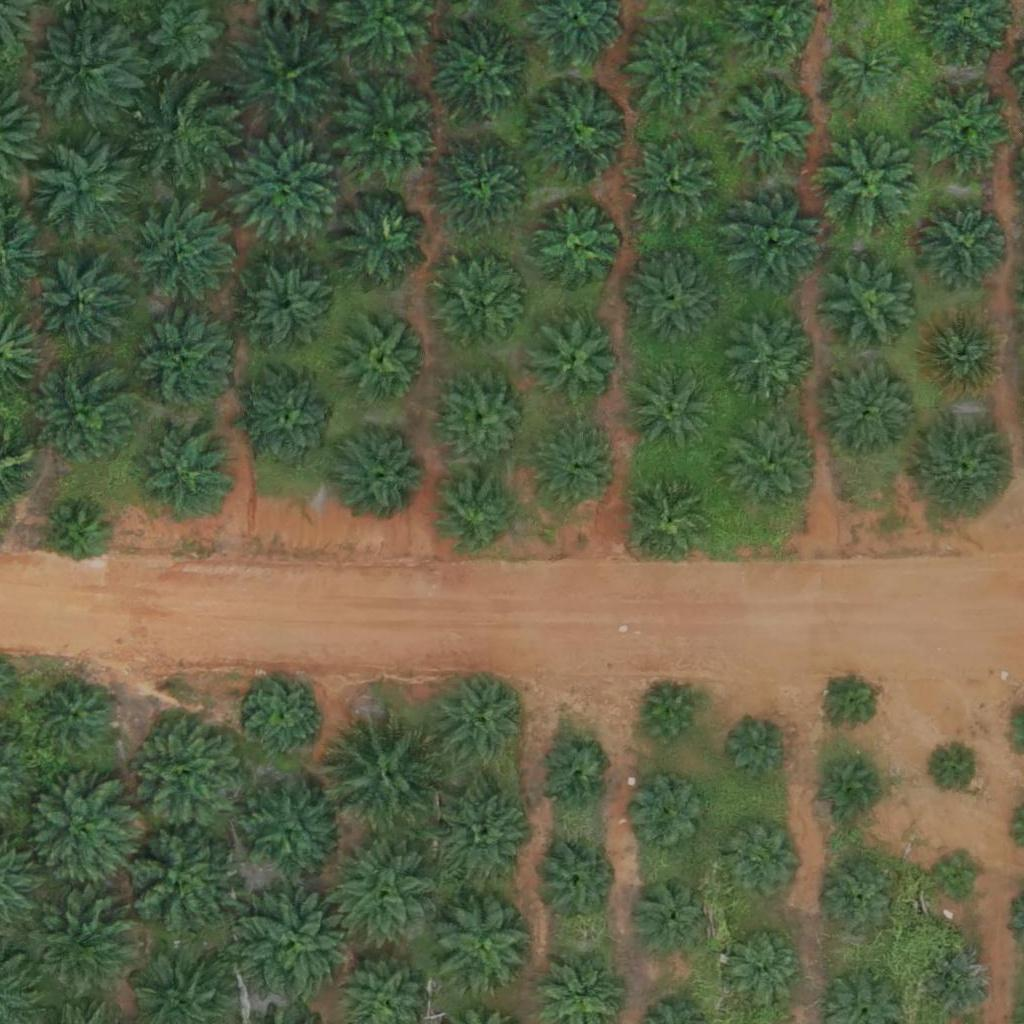Kelapa_Sawit: (126, 708, 251, 834), (114, 819, 239, 945), (234, 883, 359, 1009), (325, 709, 450, 835), (321, 832, 446, 958), (228, 140, 341, 254), (225, 20, 338, 133), (33, 10, 145, 124), (24, 776, 136, 889), (25, 888, 137, 1001), (823, 135, 923, 236), (722, 195, 822, 296), (625, 17, 725, 118), (624, 134, 724, 235), (622, 250, 722, 351), (530, 81, 630, 182), (431, 24, 531, 125), (433, 134, 533, 235), (341, 78, 441, 179), (32, 139, 132, 240), (36, 367, 136, 468), (130, 312, 230, 413), (135, 422, 235, 523), (719, 408, 819, 509), (821, 256, 921, 357), (819, 360, 919, 461), (918, 414, 1018, 515), (330, 190, 430, 290), (137, 83, 237, 183), (130, 204, 230, 304), (241, 371, 341, 471), (333, 422, 433, 522), (435, 368, 535, 468), (240, 780, 340, 880), (430, 672, 530, 772), (434, 788, 534, 888), (434, 895, 534, 995), (925, 87, 1013, 175), (919, 197, 1007, 285), (532, 205, 620, 293), (238, 263, 326, 351), (532, 318, 620, 406), (534, 424, 622, 512), (630, 364, 718, 452), (627, 474, 715, 562), (919, 308, 1007, 396), (531, 837, 618, 925), (727, 83, 814, 171), (438, 264, 525, 352), (39, 265, 126, 353), (341, 314, 428, 402), (435, 471, 522, 559), (734, 311, 821, 399), (830, 37, 905, 113), (725, 928, 800, 1004), (635, 876, 710, 952), (247, 677, 322, 753), (535, 737, 610, 813), (633, 779, 708, 854), (726, 821, 801, 896), (824, 865, 899, 940), (38, 680, 113, 755), (45, 504, 108, 567), (818, 669, 881, 732), (819, 758, 882, 821), (638, 685, 700, 748), (728, 718, 790, 781), (933, 744, 983, 795), (932, 850, 982, 901)
